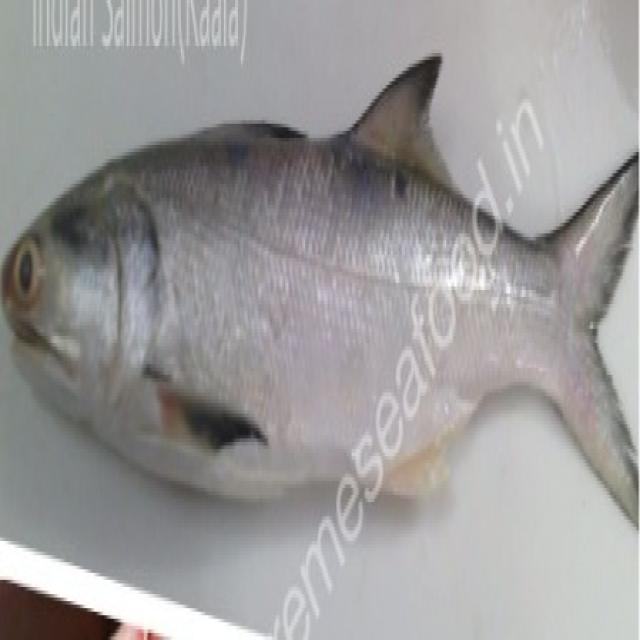Fourfinger-Threadfin: (0, 70, 640, 516)
